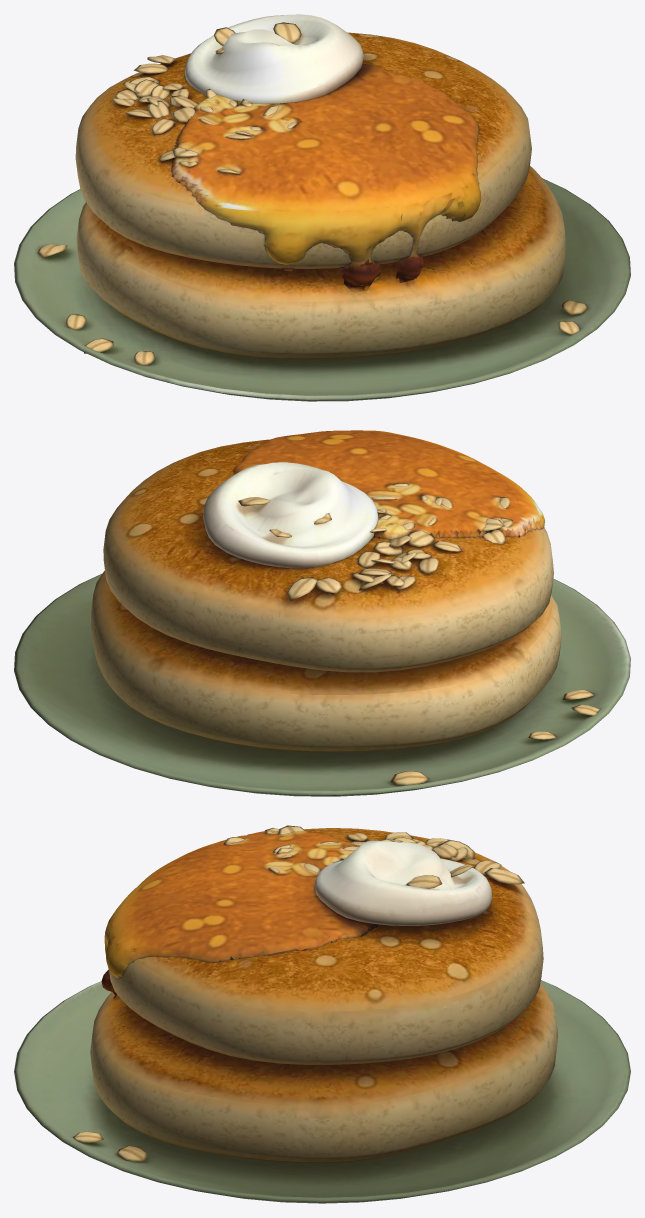
The model's file is pancake--oat-flake.glb.
3 views of the same model, one above another, from view 1: azimuth 30°, elevation 25°; view 2: azimuth 150°, elevation 25°; view 3: azimuth 270°, elevation 25° (orthographic).
Parts seen in each view (by area): view 1: pancake_oat-flake; view 2: pancake_oat-flake; view 3: pancake_oat-flake.
Boxes of the visible parts, x1=… form: pancake_oat-flake: x1=14, y1=14, x2=630, y2=401; pancake_oat-flake: x1=14, y1=430, x2=630, y2=796; pancake_oat-flake: x1=14, y1=825, x2=630, y2=1203.
Size of the model in its own units: 1.22 by 0.5238 by 1.22.
Materials: 1 (1 with a texture image).
